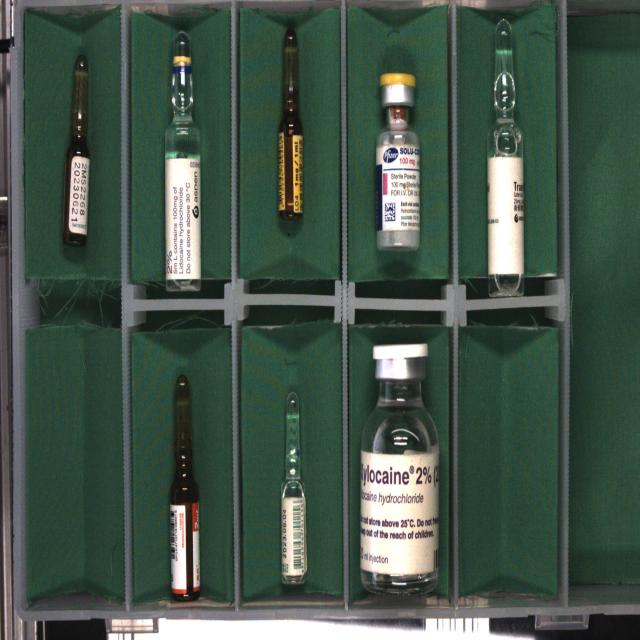Vials: (360, 343, 439, 594), (376, 73, 419, 251)
